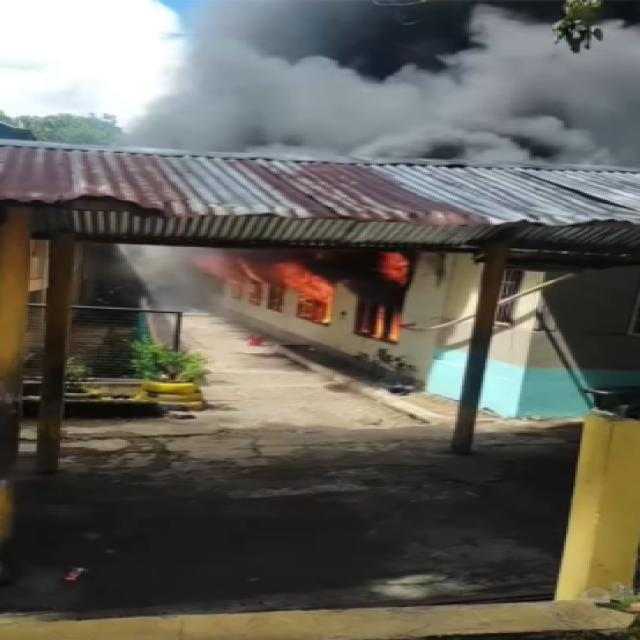Fire: (150, 245, 428, 342)
Smoke: (138, 13, 640, 162)
